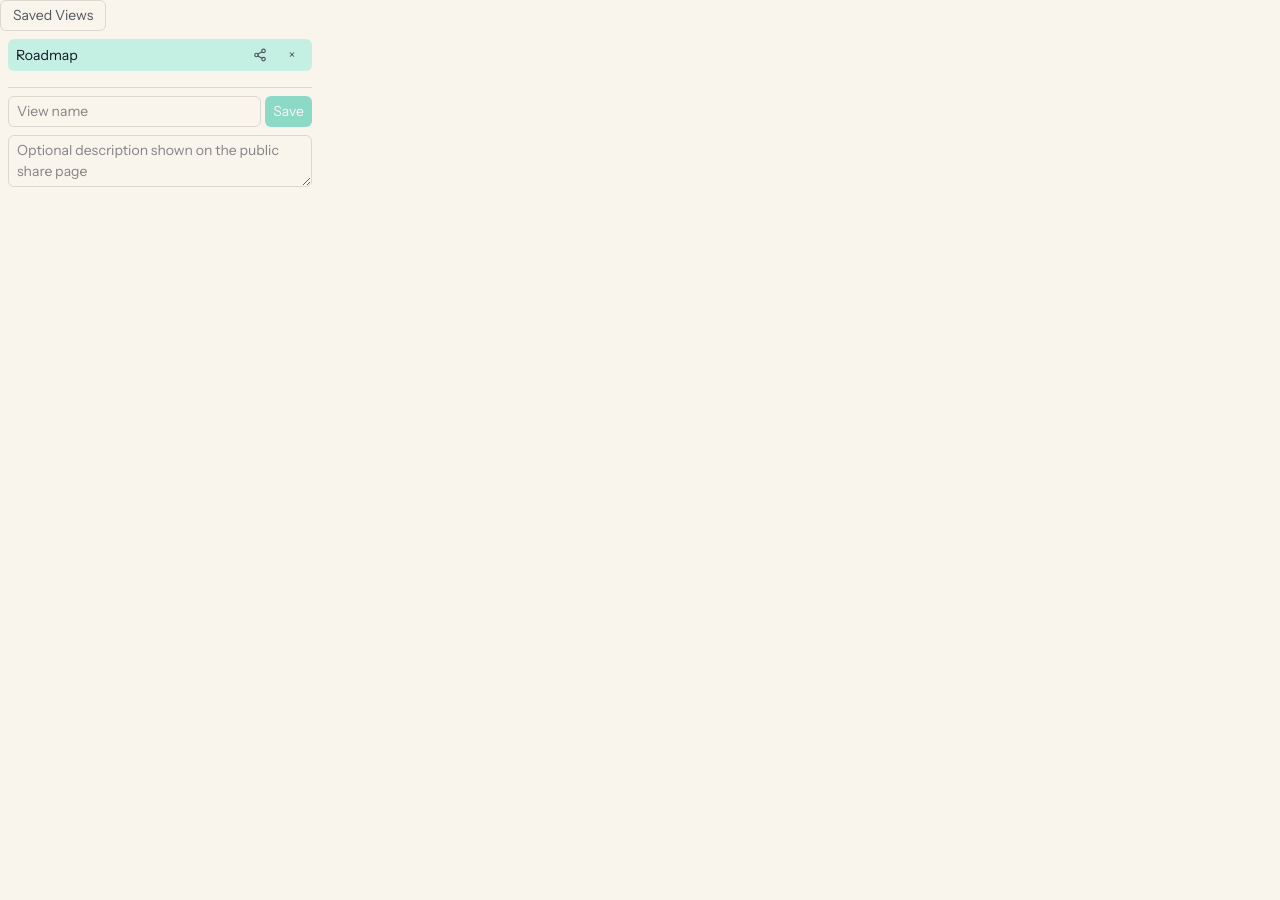
Test: LensPicker share dialog wiring › mounts the share dialog for the row that was clicked
Click the button named "Share view".
click(260, 55)  # box [248,43,272,67]
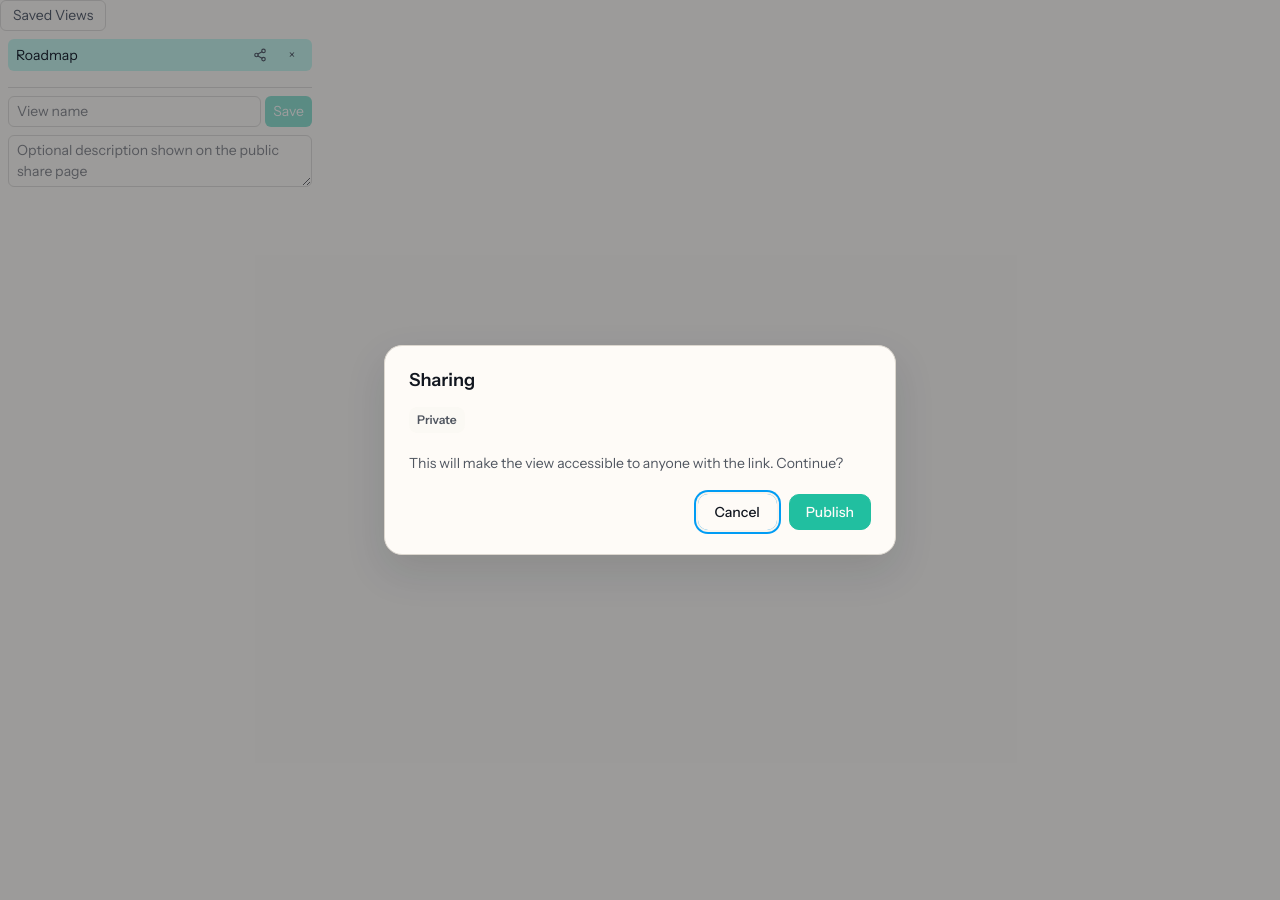
Check: the dialog shows "Sharing", box [409,369,475,391]
Check: the button "Publish" is shown, box [789,494,871,530]
